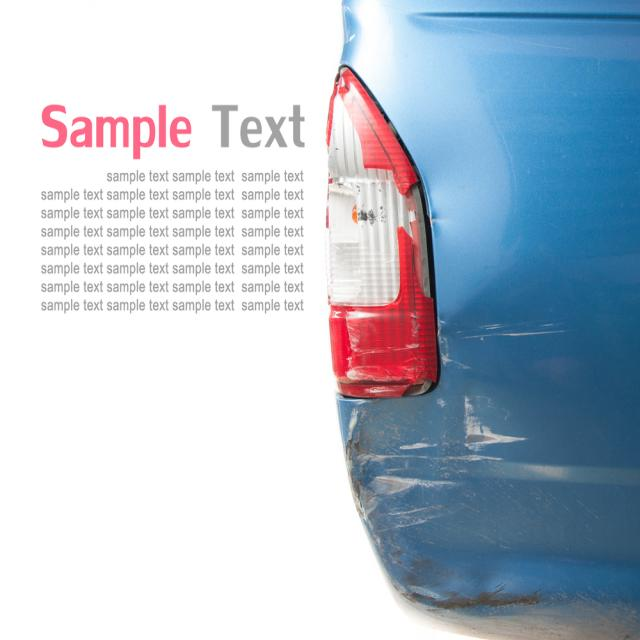dent: (349, 359, 607, 606), (401, 127, 499, 303)
lamp broken: (325, 68, 445, 402)
scratch: (439, 317, 578, 353)
